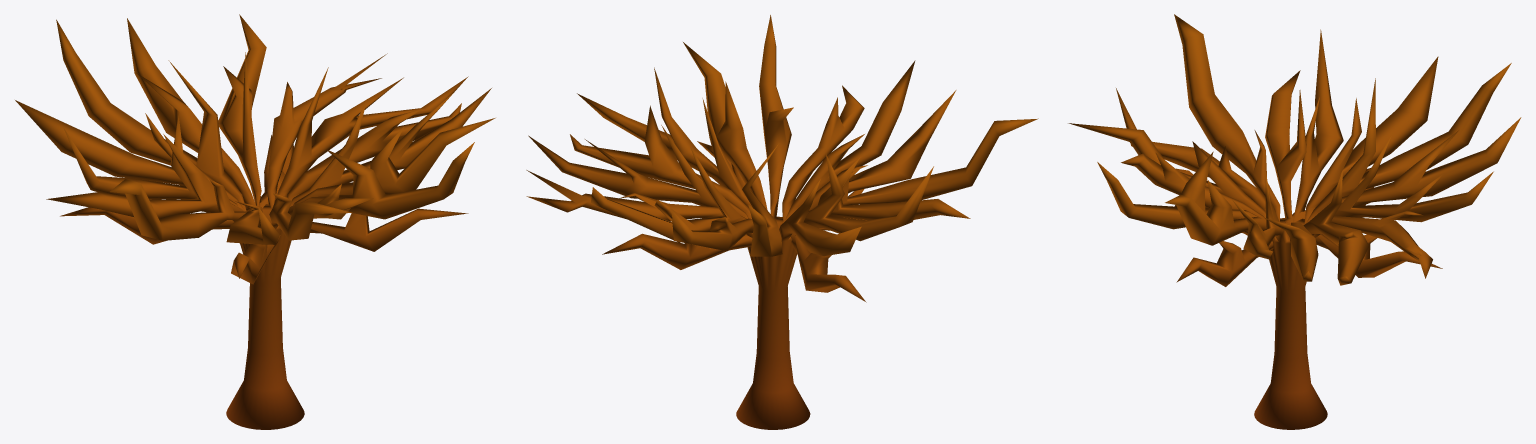
File: erdtree.glb
The picture shows the model from 3 angles, left to right: view 1: azimuth 30°, elevation 25°; view 2: azimuth 150°, elevation 25°; view 3: azimuth 270°, elevation 25°; orthographic projection. The views are drawn at different scales.
Parts seen in each view (by area): view 1: Cylinder; view 2: Cylinder; view 3: Cylinder.
Part boxes in pixels (box(x1,y1,x2,y2)): Cylinder: box(15, 14, 495, 429); Cylinder: box(526, 15, 1038, 429); Cylinder: box(1068, 14, 1521, 429).
Bounding box in the file's own units: 29.59 × 20.96 × 27.59.
1 material, 1 textured.
